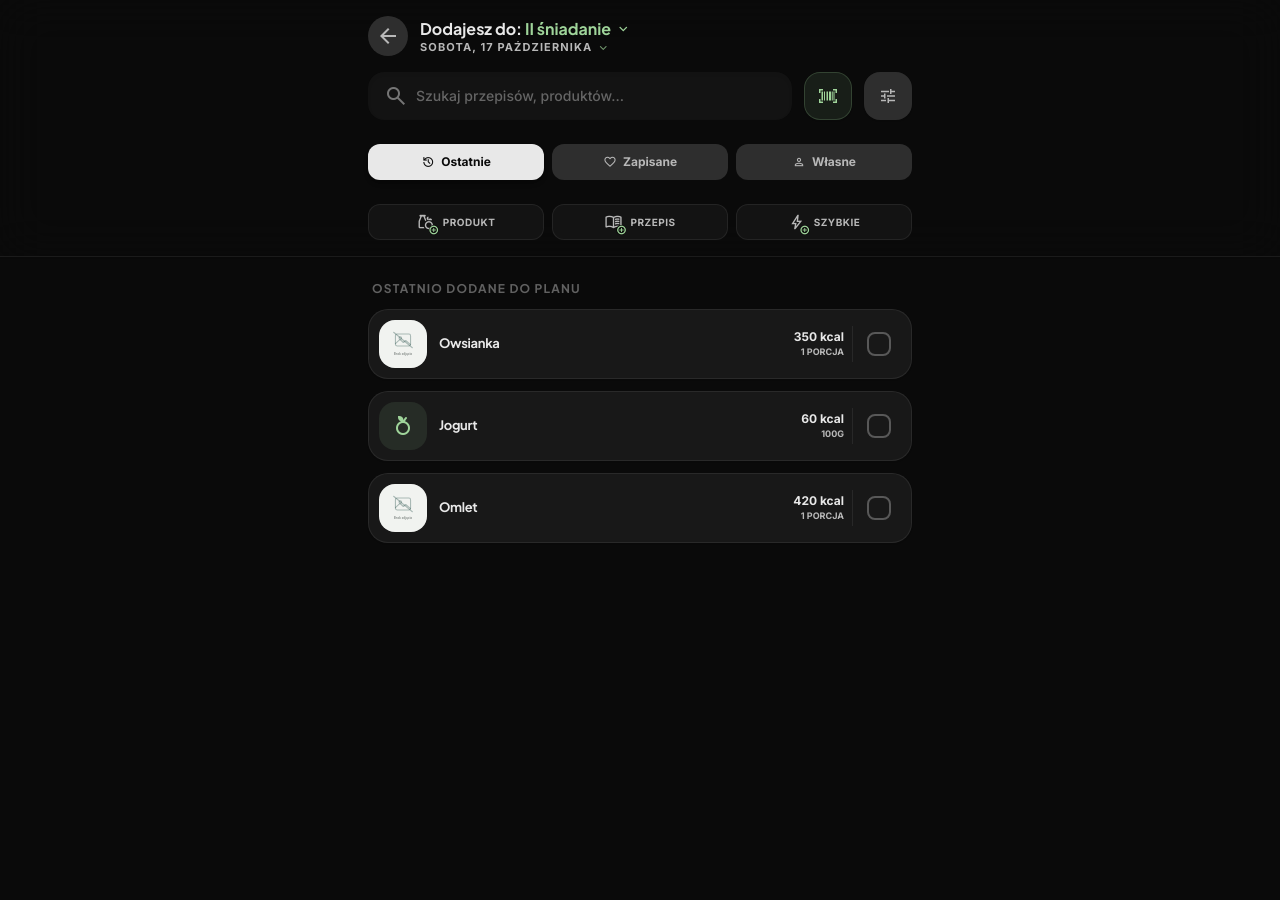
Test: AddFood selection › opens the meal time and date pickers as bottom panels and closes them when tapping outside
What coordinates should you click on to do the following:
click the button "Dodajesz do: II śniadanie"
I would click on:
 (526, 29)
Its box is [420,19,631,39].
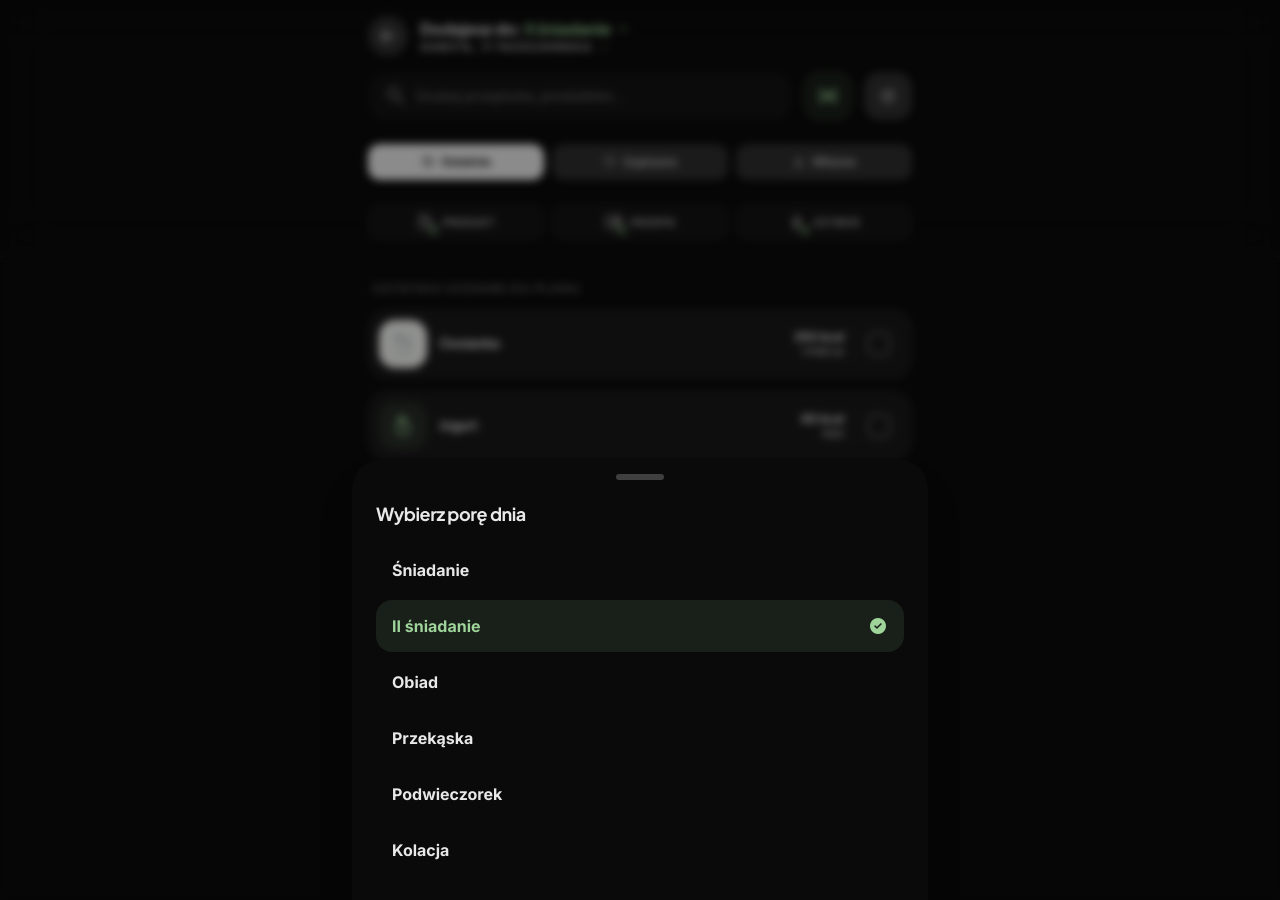
Now the dialog "Wybierz porę dnia" is shown, box [352,458,928,899]
What coordinates should you click on to do the following:
click the element that starts with "Wybierz porę dnia"
I would click on:
 (640, 450)
Its box is [0,0,1279,899].
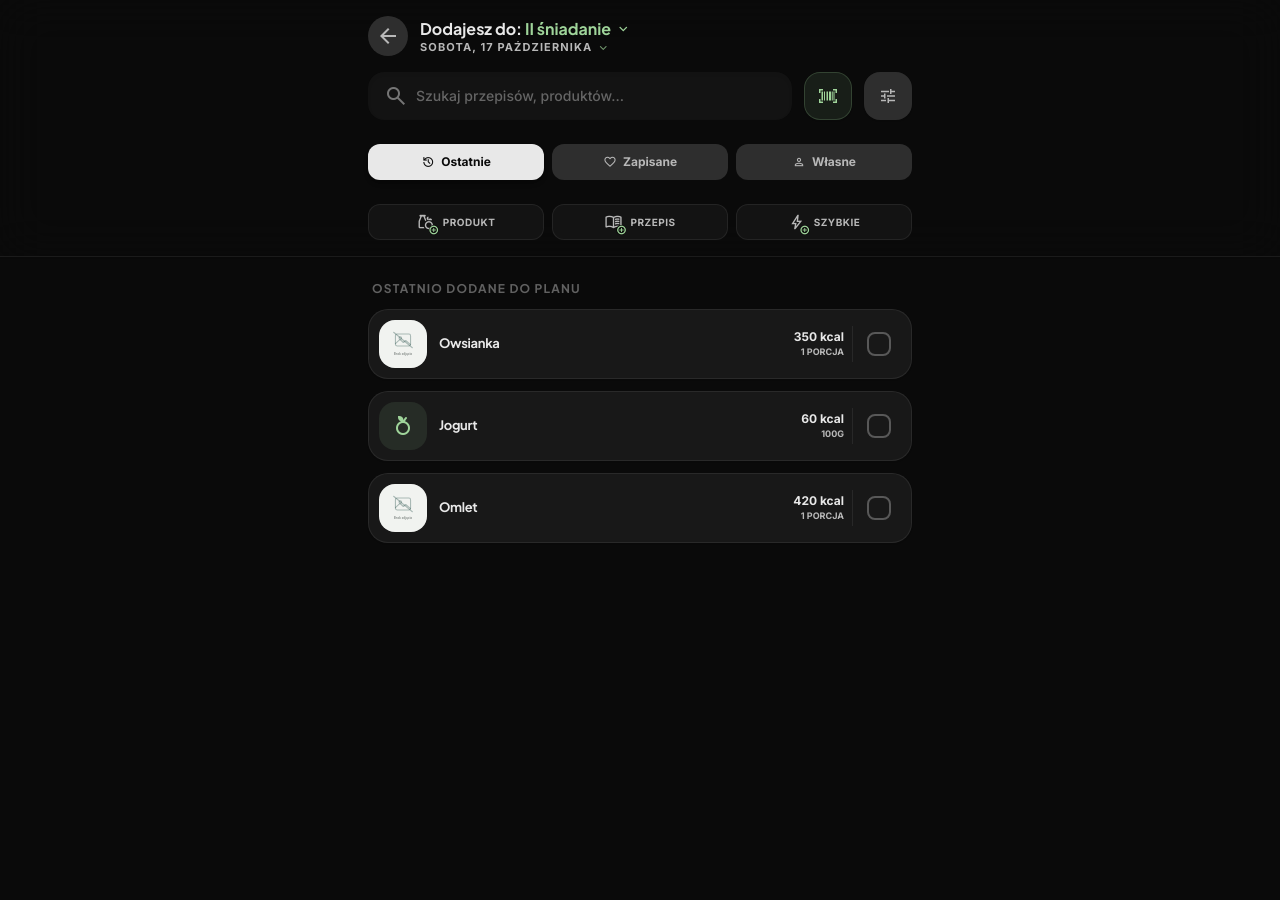
Now the dialog is gone
What coordinates should you click on to do the following:
click the button "Sobota, 17 października"
I would click on:
 (515, 48)
Its box is [420,41,610,55].
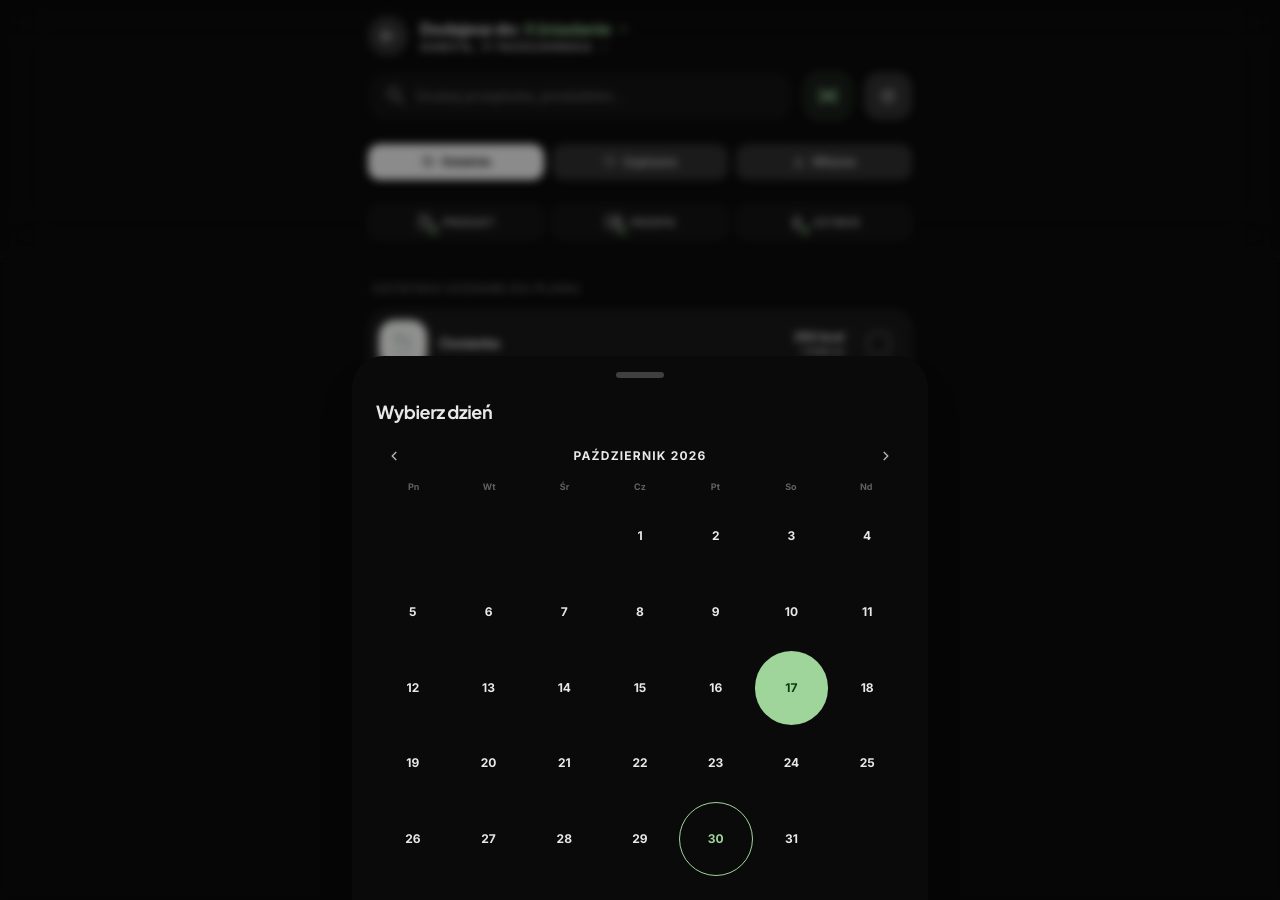
Now the dialog "Wybierz dzień" is shown, box [352,356,928,899]
What coordinates should you click on to do the following:
click the button named "20 października"
I would click on:
 (489, 763)
Its box is [452,727,525,800].
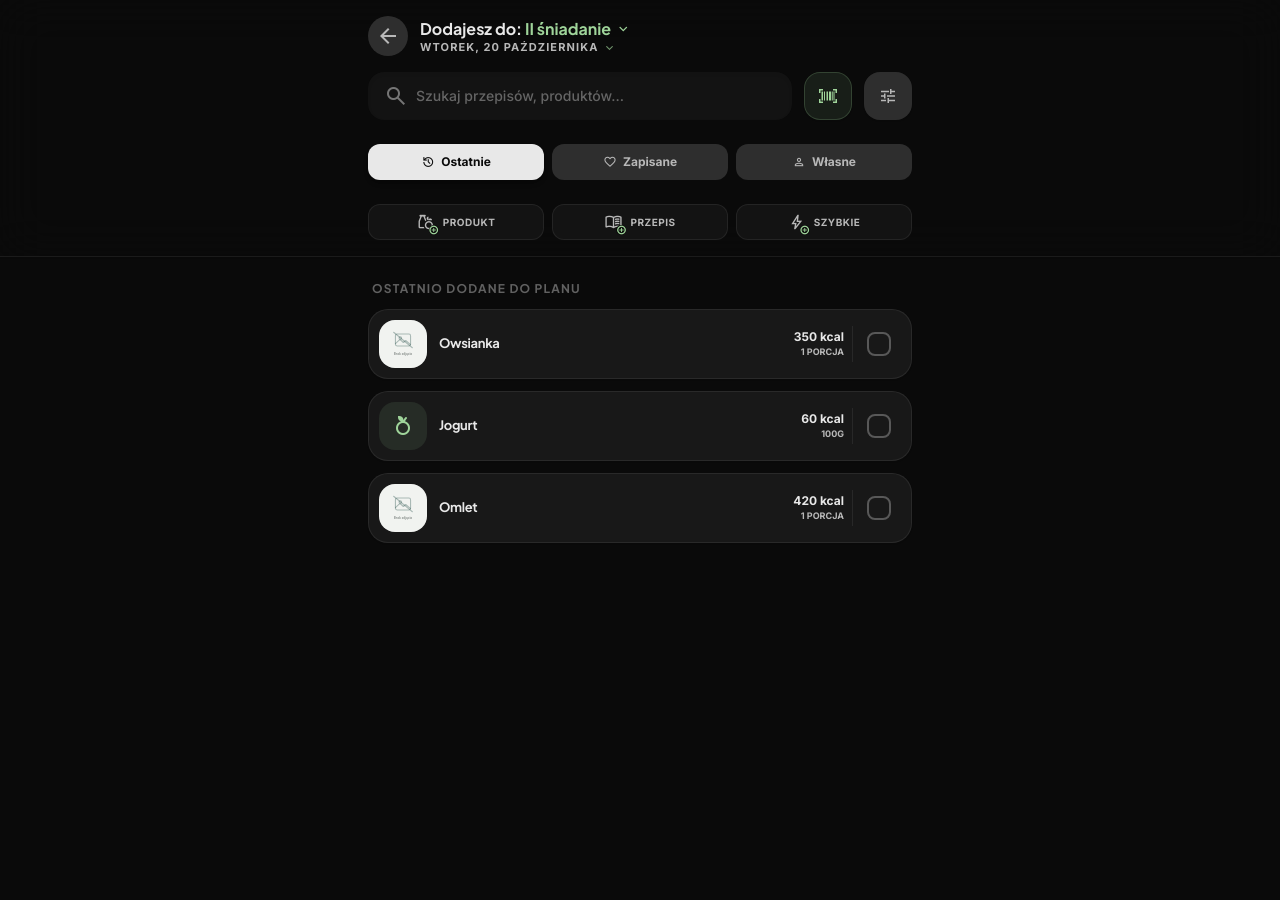
Now the dialog is gone
Now the button "Wtorek, 20 października" is shown, box [420,41,616,55]
